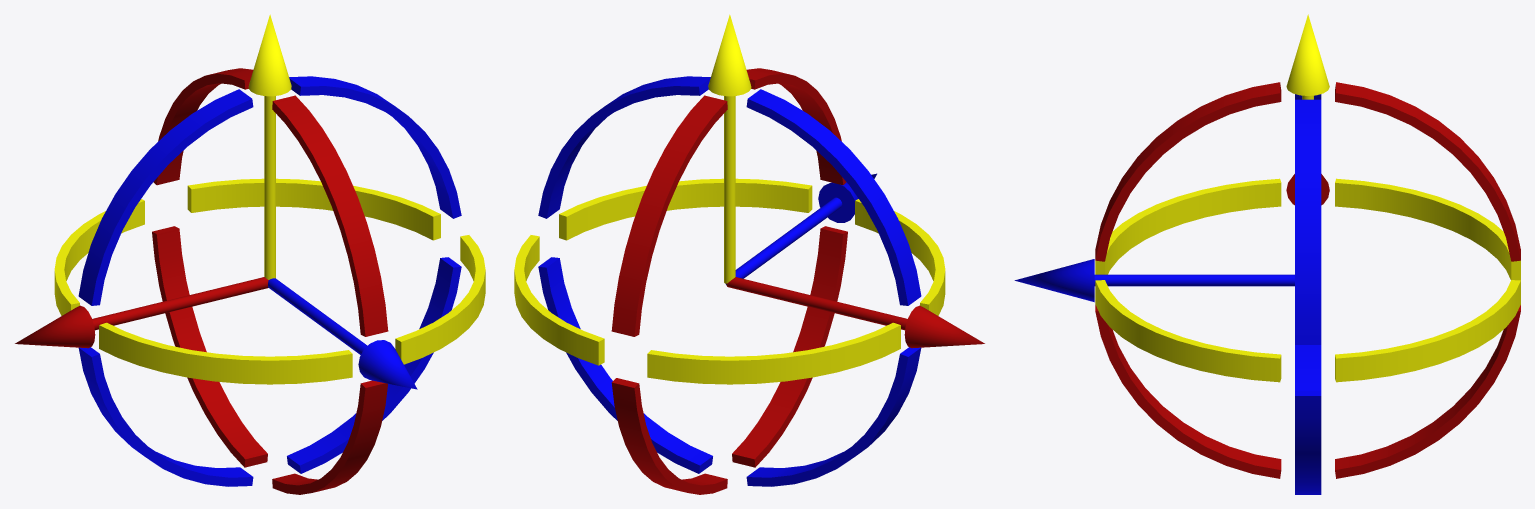
The model's file is Gizmo.fbx.
The picture shows the model from 3 angles, left to right: view 1: azimuth 30°, elevation 25°; view 2: azimuth 150°, elevation 25°; view 3: azimuth 270°, elevation 25°; orthographic projection.
Parts seen in each view (by area): view 1: Gizmo:WheelX, Gizmo:WheelY, Gizmo:WheelZ, Gizmo:ArrowZ, Gizmo:ArrowX, Gizmo:ArrowY; view 2: Gizmo:WheelX, Gizmo:WheelY, Gizmo:WheelZ, Gizmo:ArrowX, Gizmo:ArrowZ, Gizmo:ArrowY; view 3: Gizmo:WheelY, Gizmo:WheelX, Gizmo:WheelZ, Gizmo:ArrowY, Gizmo:ArrowZ.
Boxes of the visible parts, bbox=[...] form: Gizmo:WheelX: bbox=[152, 68, 388, 494]; Gizmo:WheelY: bbox=[54, 178, 485, 384]; Gizmo:WheelZ: bbox=[78, 76, 461, 486]; Gizmo:ArrowZ: bbox=[248, 14, 291, 279]; Gizmo:ArrowX: bbox=[15, 277, 268, 348]; Gizmo:ArrowY: bbox=[268, 278, 417, 389]; Gizmo:WheelX: bbox=[611, 68, 847, 494]; Gizmo:WheelY: bbox=[514, 178, 945, 384]; Gizmo:WheelZ: bbox=[538, 76, 921, 486]; Gizmo:ArrowX: bbox=[726, 277, 984, 348]; Gizmo:ArrowZ: bbox=[708, 14, 751, 283]; Gizmo:ArrowY: bbox=[726, 173, 876, 284]; Gizmo:WheelY: bbox=[1095, 178, 1520, 382]; Gizmo:WheelX: bbox=[1095, 82, 1520, 478]; Gizmo:WheelZ: bbox=[1295, 94, 1321, 494]; Gizmo:ArrowY: bbox=[1014, 259, 1294, 302]; Gizmo:ArrowZ: bbox=[1286, 14, 1329, 99].
Size of the model in its own units: 4.73 by 4.73 by 4.73.
